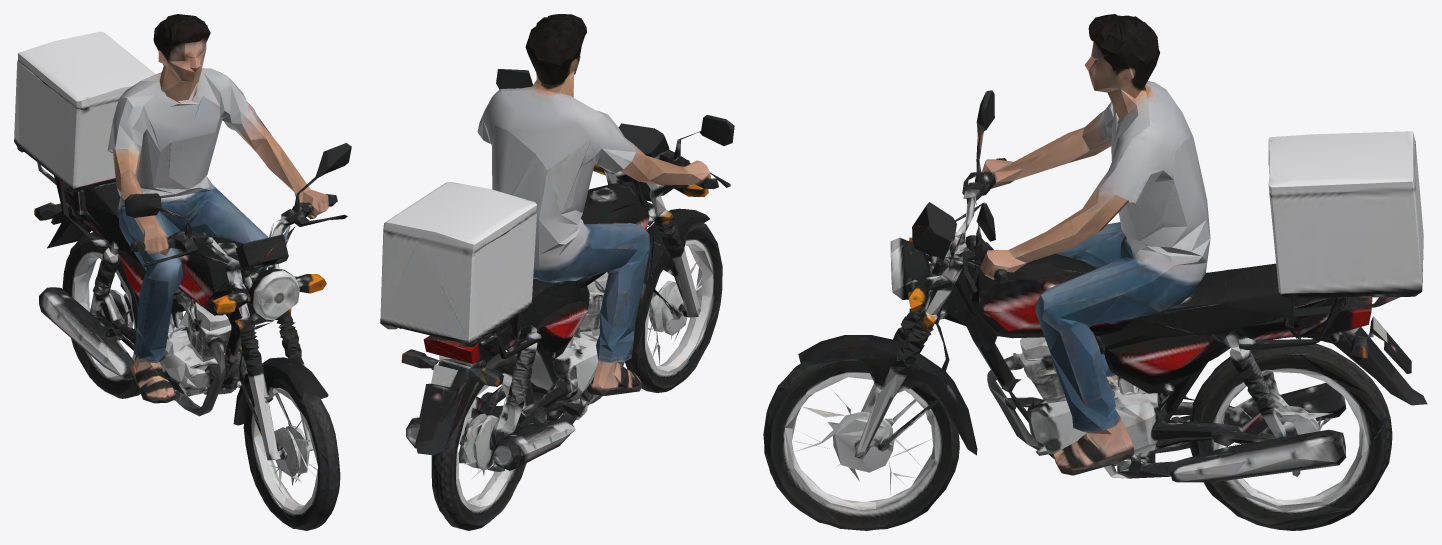
The model's file is moto.glb.
3 renders of one model, left to right at view 1: azimuth 30°, elevation 25°; view 2: azimuth 150°, elevation 25°; view 3: azimuth 270°, elevation 25°, orthographic. The views are drawn at different scales.
Visible parts, largest first — view 1: output_unwrapped; view 2: output_unwrapped; view 3: output_unwrapped.
Boxes of the visible parts, bbox=[...] form: output_unwrapped: bbox=[14, 14, 351, 530]; output_unwrapped: bbox=[380, 14, 734, 530]; output_unwrapped: bbox=[763, 14, 1427, 530].
Size of the model in its own units: 0.8854 by 1.61 by 1.9.
Materials: 1 (1 with a texture image).
